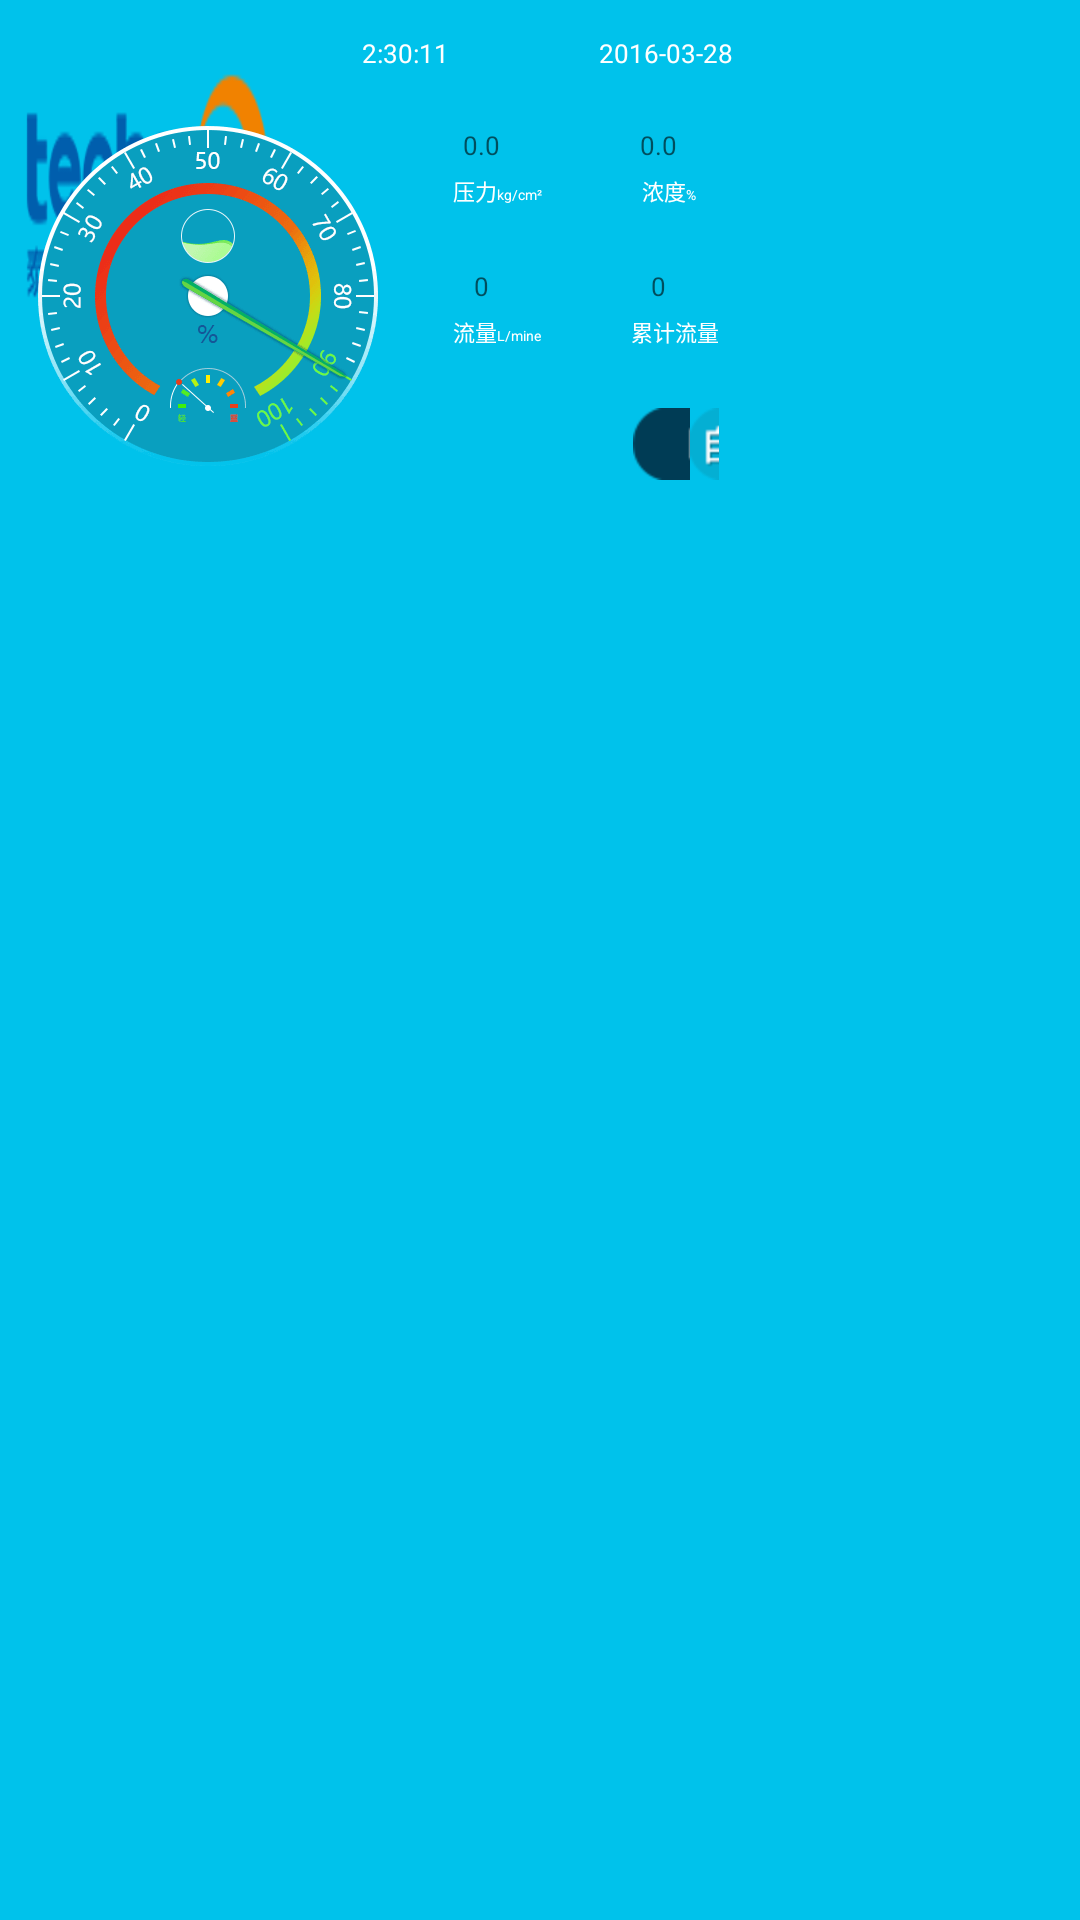

Locate icon controls on the screen. Image size 1080x1920, boxes as (x1, y1, x2, y2).
shouye biaopan: (38, 126, 378, 462)
